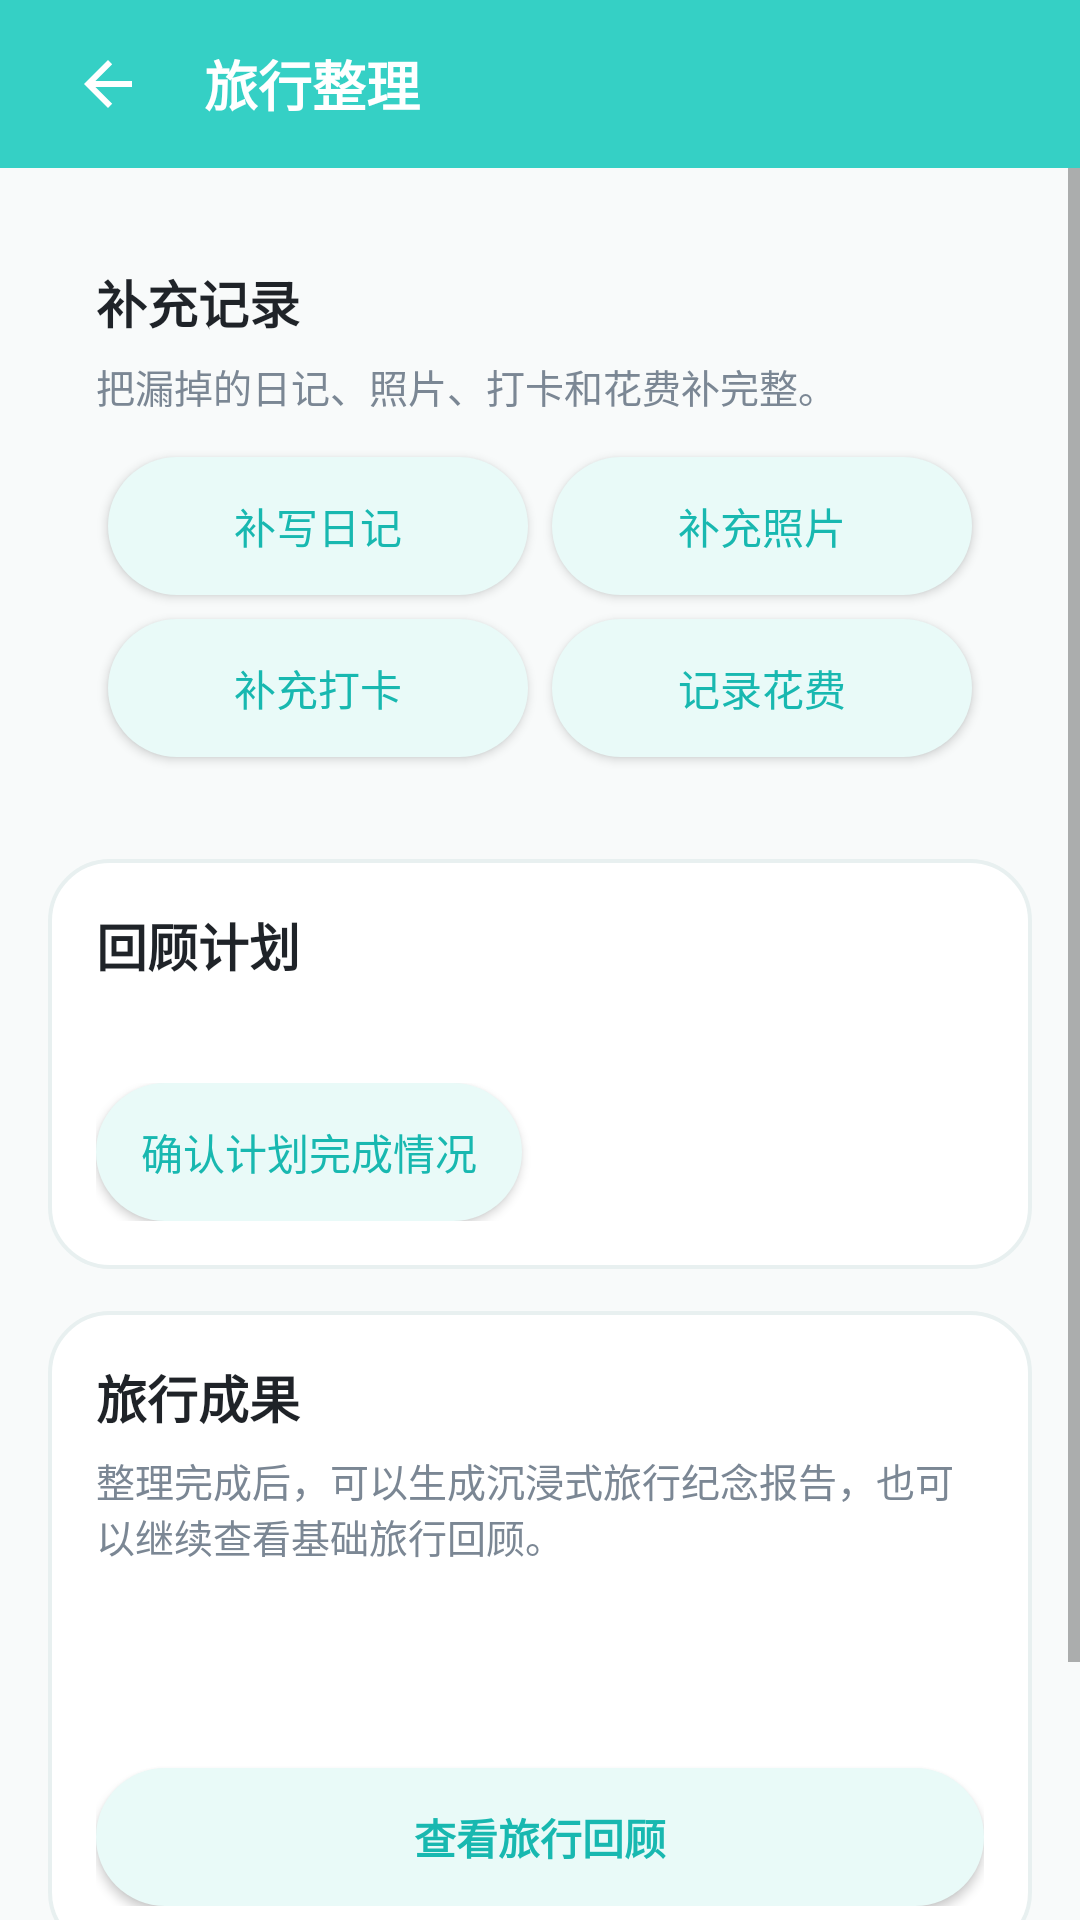

Screen size 1080*1920. Icon name, then its box in pixels as (x1=x1, y1=y1, x2=x2, y2=y2):
返回: (x1=84, y1=60, x2=132, y2=108)
